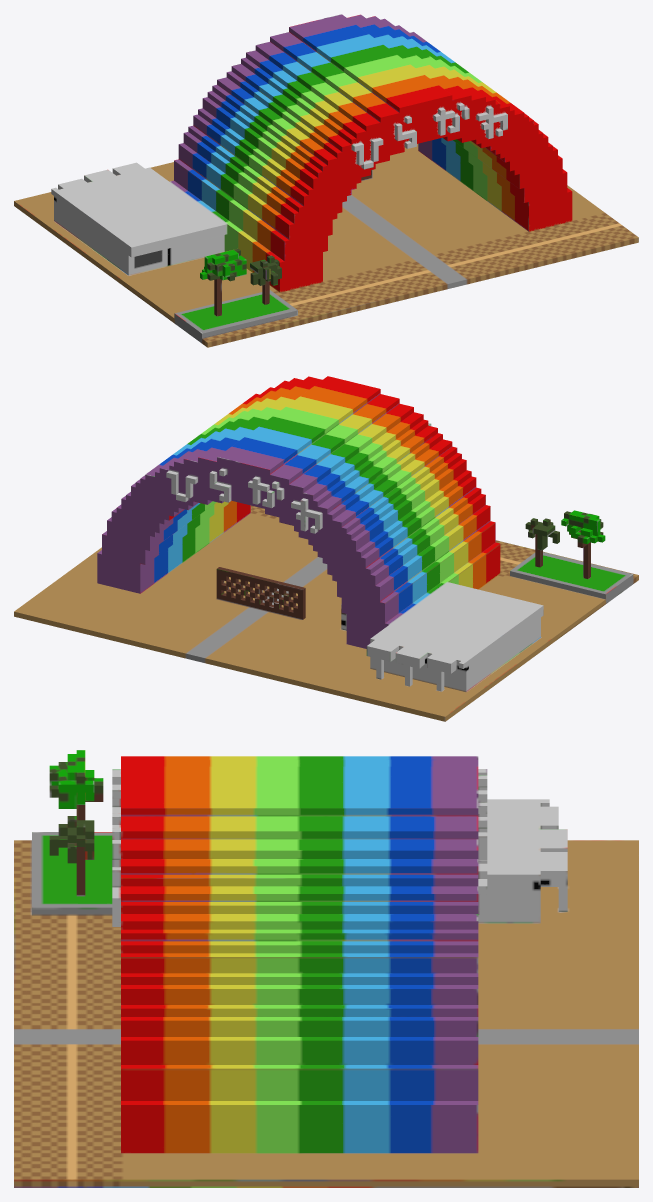
File: hirakawadoubutsuen.glb
3 views of the same model, one above another, from view 1: azimuth 30°, elevation 25°; view 2: azimuth 150°, elevation 25°; view 3: azimuth 270°, elevation 25° (orthographic). The views are drawn at different scales.
Visible parts, largest first — view 1: hirakawadoubutsuen; view 2: hirakawadoubutsuen; view 3: hirakawadoubutsuen.
Part boxes in pixels (x1,y1,x2,y2): hirakawadoubutsuen: (14, 14, 638, 347); hirakawadoubutsuen: (14, 376, 638, 721); hirakawadoubutsuen: (14, 750, 638, 1187).
Bounding box in the file's own units: 1.8 × 0.64 × 1.4.
Materials: 1 (1 with a texture image).
